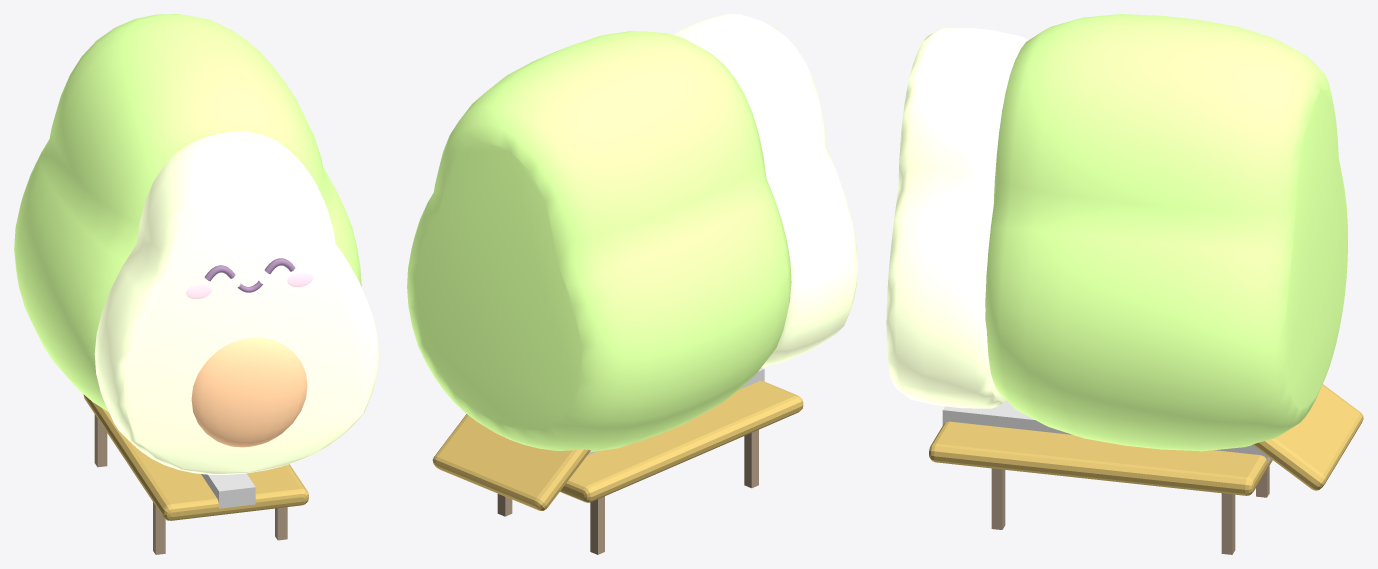
File: life_avocado.glb
The picture shows the model from 3 angles, left to right: view 1: azimuth 30°, elevation 25°; view 2: azimuth 150°, elevation 25°; view 3: azimuth 270°, elevation 25°; orthographic projection. The views are drawn at different scales.
Parts seen in each view (by area): view 1: wrap_avocado_1, life_avocado; view 2: wrap_avocado_1, life_avocado; view 3: wrap_avocado_1, life_avocado.
Part boxes in pixels (x1,y1,x2,y2): wrap_avocado_1: (14,14,378,474); life_avocado: (83,394,308,554); wrap_avocado_1: (407,14,857,452); life_avocado: (432,367,803,554); wrap_avocado_1: (886,14,1347,451); life_avocado: (929,384,1363,554).
Size of the model in its own units: 2.84 by 3.86 by 3.42.
